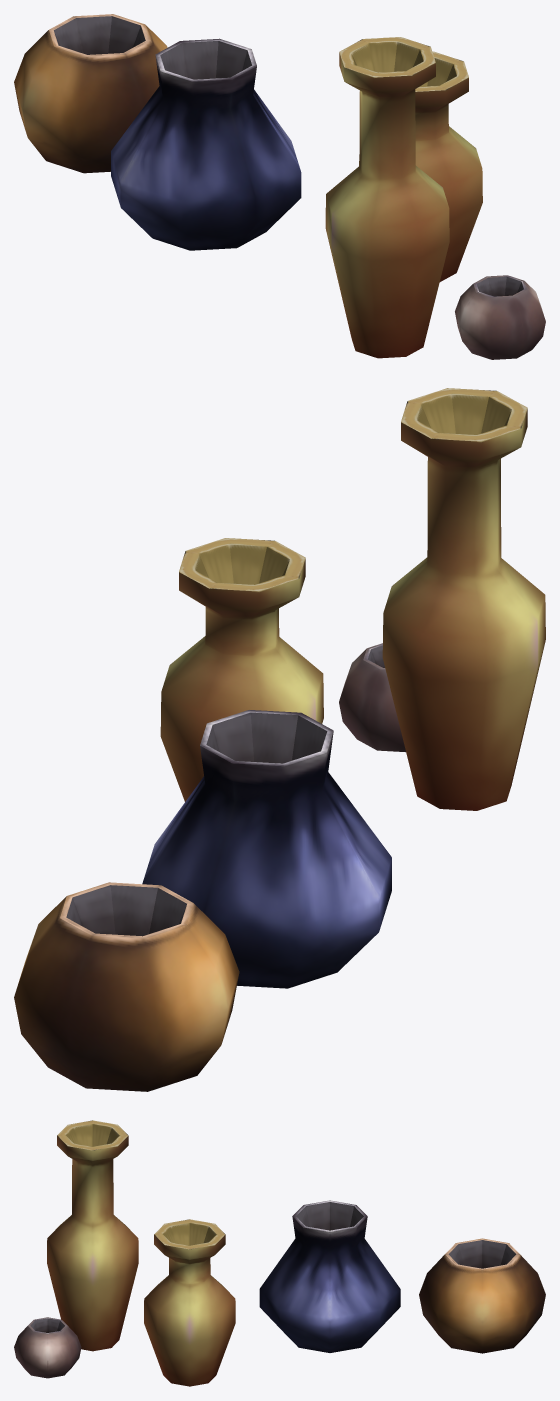
Rendered from PingZi01.FBX.
3 views of the same model, one above another, from view 1: azimuth 30°, elevation 25°; view 2: azimuth 150°, elevation 25°; view 3: azimuth 270°, elevation 25° (orthographic). The views are drawn at different scales.
Visible parts, largest first — view 1: PingZi01; view 2: PingZi01; view 3: PingZi01.
Part boxes in pixels (box(x1,y1,x2,y2)): PingZi01: box(14, 14, 545, 359); PingZi01: box(14, 388, 545, 1091); PingZi01: box(14, 1120, 545, 1386).
Bounding box in the file's own units: 42.9 × 45.56 × 107.
